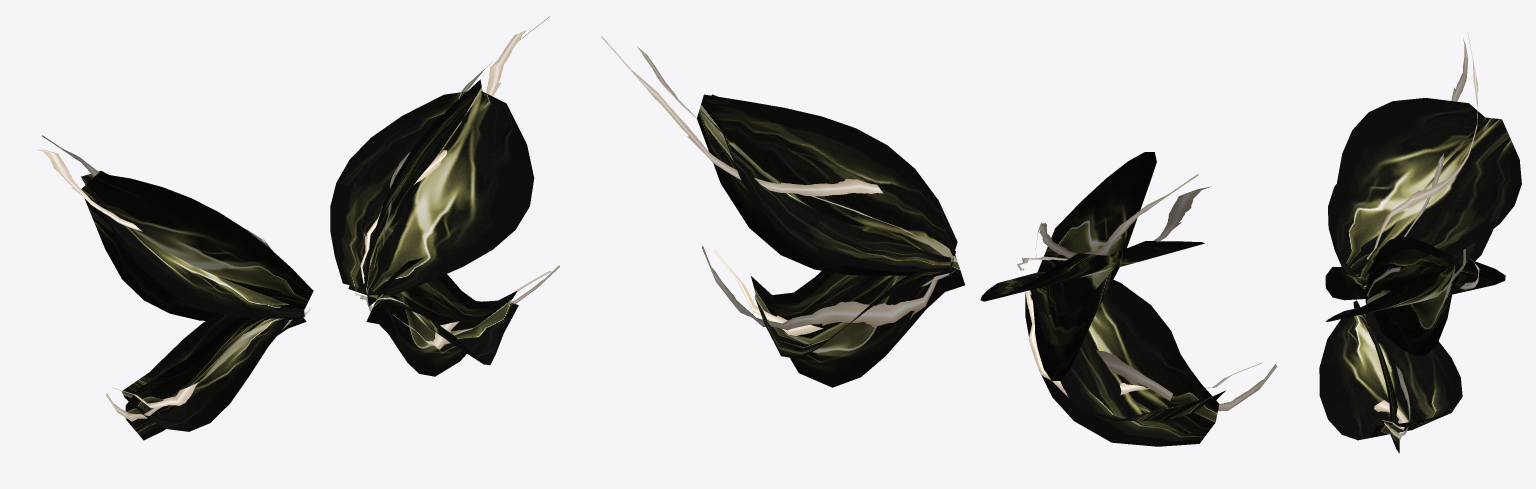
Rendered from effect_2.FBX.
3 views of the same model, side by side, from view 1: azimuth 30°, elevation 25°; view 2: azimuth 150°, elevation 25°; view 3: azimuth 270°, elevation 25° (orthographic). The views are drawn at different scales.
Parts seen in each view (by area): view 1: Plane003, plane001, Plane12, Plane11; view 2: plane001, Plane003, Plane11, Plane12; view 3: Plane003, plane001, Plane11, Plane12.
Part boxes in pixels (bbox=[...]): Plane003: bbox=[81, 91, 534, 431]; plane001: bbox=[81, 79, 517, 440]; Plane12: bbox=[36, 30, 559, 408]; Plane11: bbox=[42, 16, 551, 421]; plane001: bbox=[697, 94, 1219, 446]; Plane003: bbox=[700, 94, 1225, 420]; Plane11: bbox=[601, 36, 1277, 411]; Plane12: bbox=[637, 46, 1261, 397]; Plane003: bbox=[1319, 117, 1521, 440]; plane001: bbox=[1335, 98, 1493, 453]; Plane11: bbox=[1364, 33, 1479, 429]; Plane12: bbox=[1363, 39, 1467, 439].
Bounding box in the file's own units: 2.73 × 1.51 × 1.02.
1 material, 1 textured.
